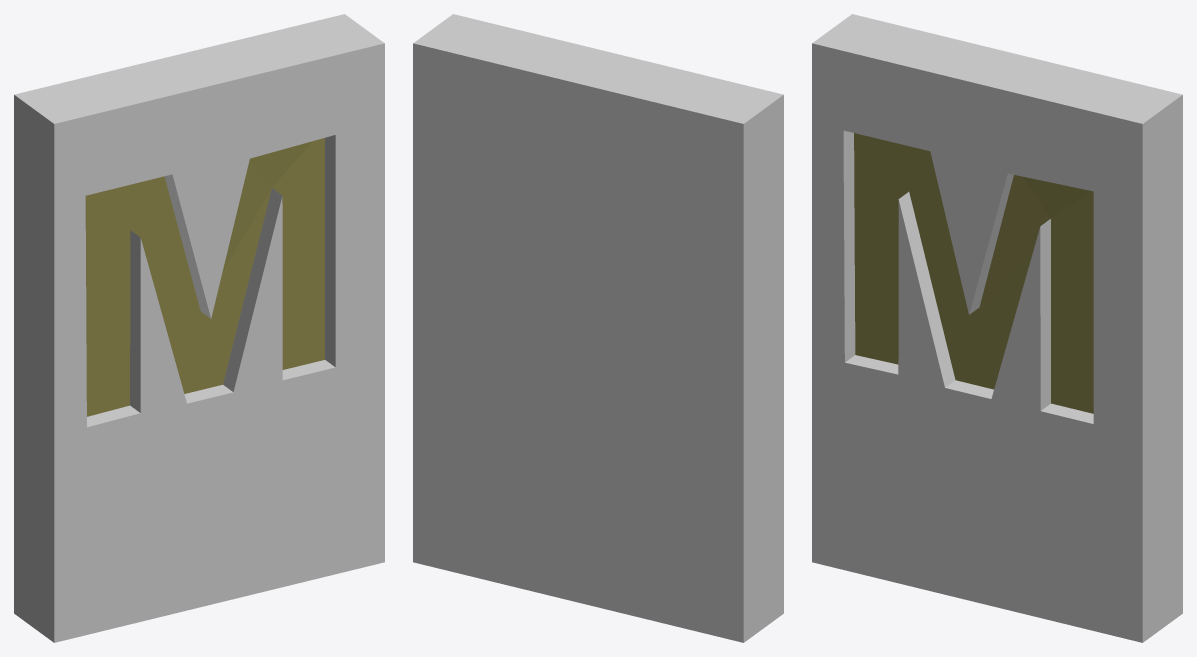
Rendered from plitkaM.fbx.
3 renders of one model, left to right at view 1: azimuth 30°, elevation 25°; view 2: azimuth 150°, elevation 25°; view 3: azimuth 330°, elevation 25°, orthographic.
Visible parts, largest first — view 1: Cube.040; view 2: Cube.040; view 3: Cube.040.
Boxes of the visible parts, x1=… form: Cube.040: x1=14, y1=14, x2=384, y2=642; Cube.040: x1=413, y1=14, x2=783, y2=642; Cube.040: x1=812, y1=14, x2=1182, y2=642.
Bounding box in the file's own units: 23.8 × 35.7 × 5.
